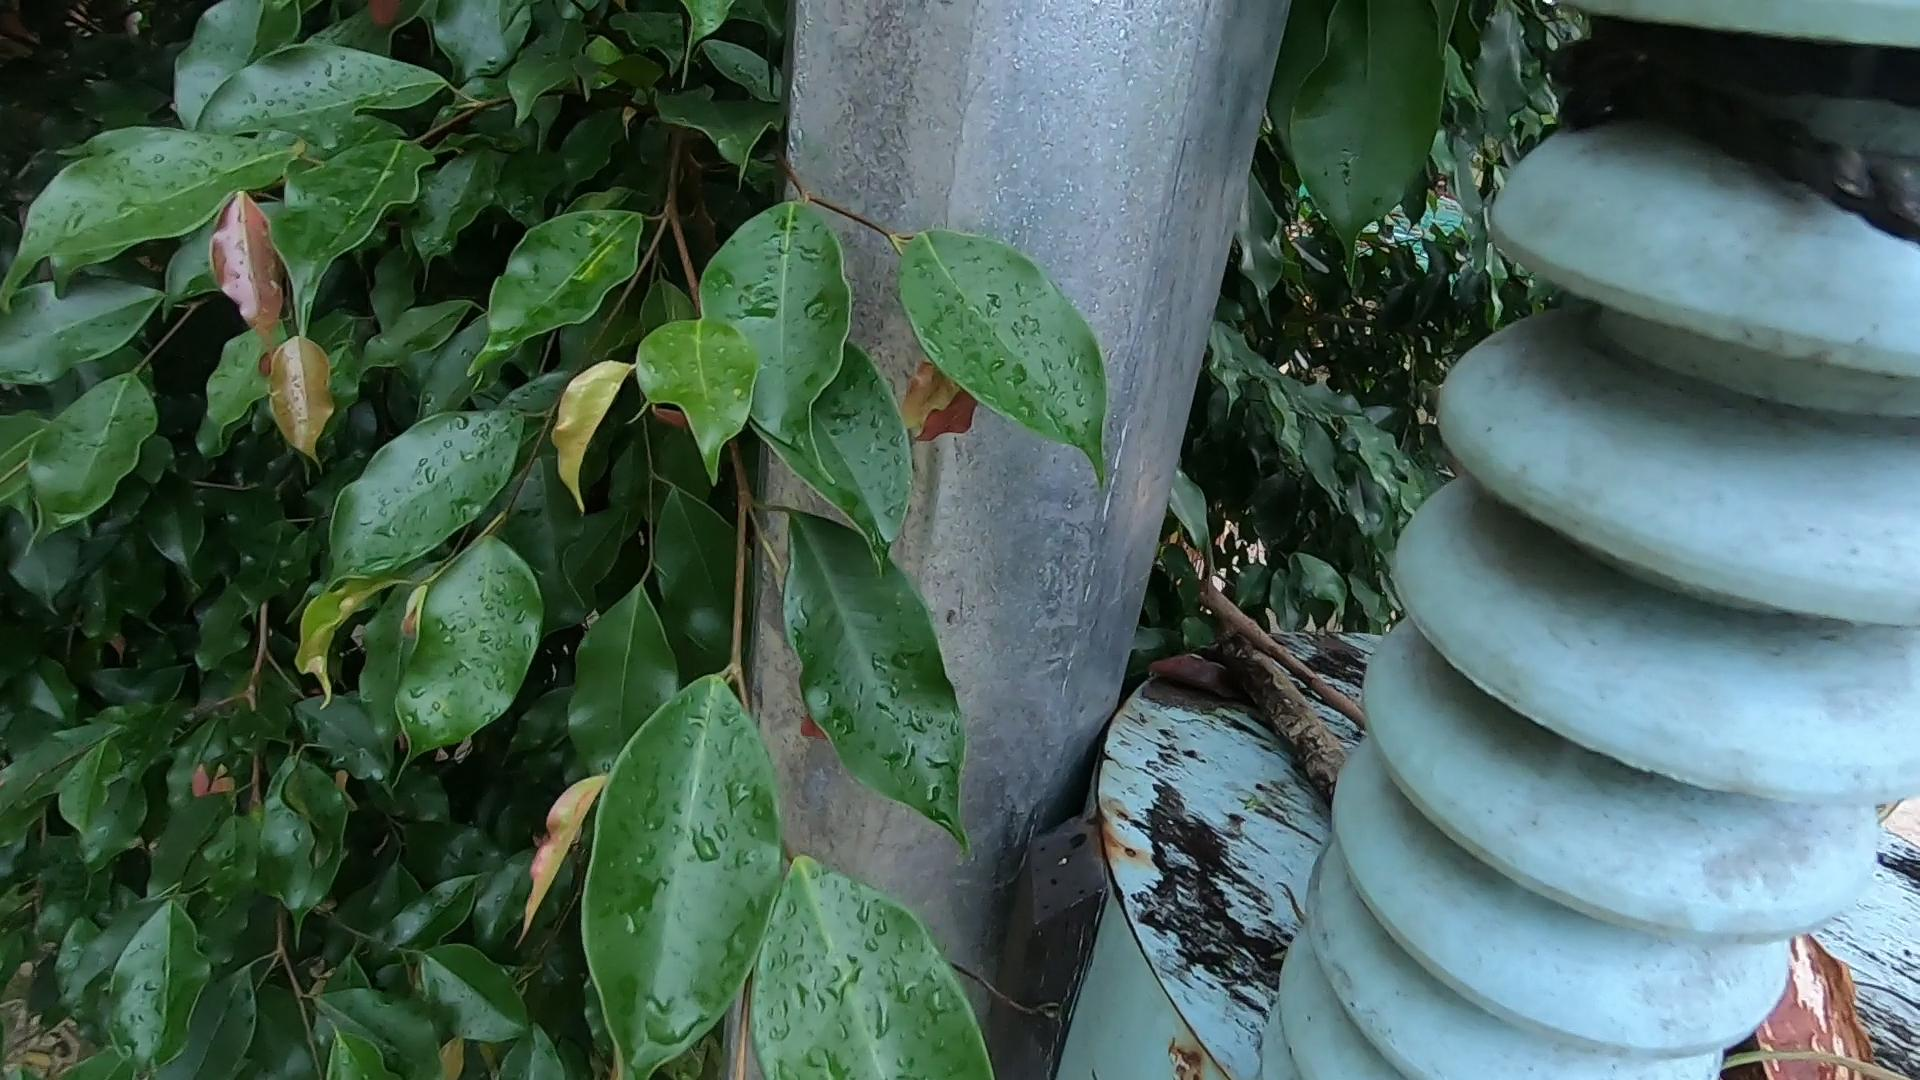branch with leaves: (1204, 571, 1354, 717)
mahogany fruit: (1697, 909, 1859, 1071)
tree branch: (1233, 653, 1770, 1080)
